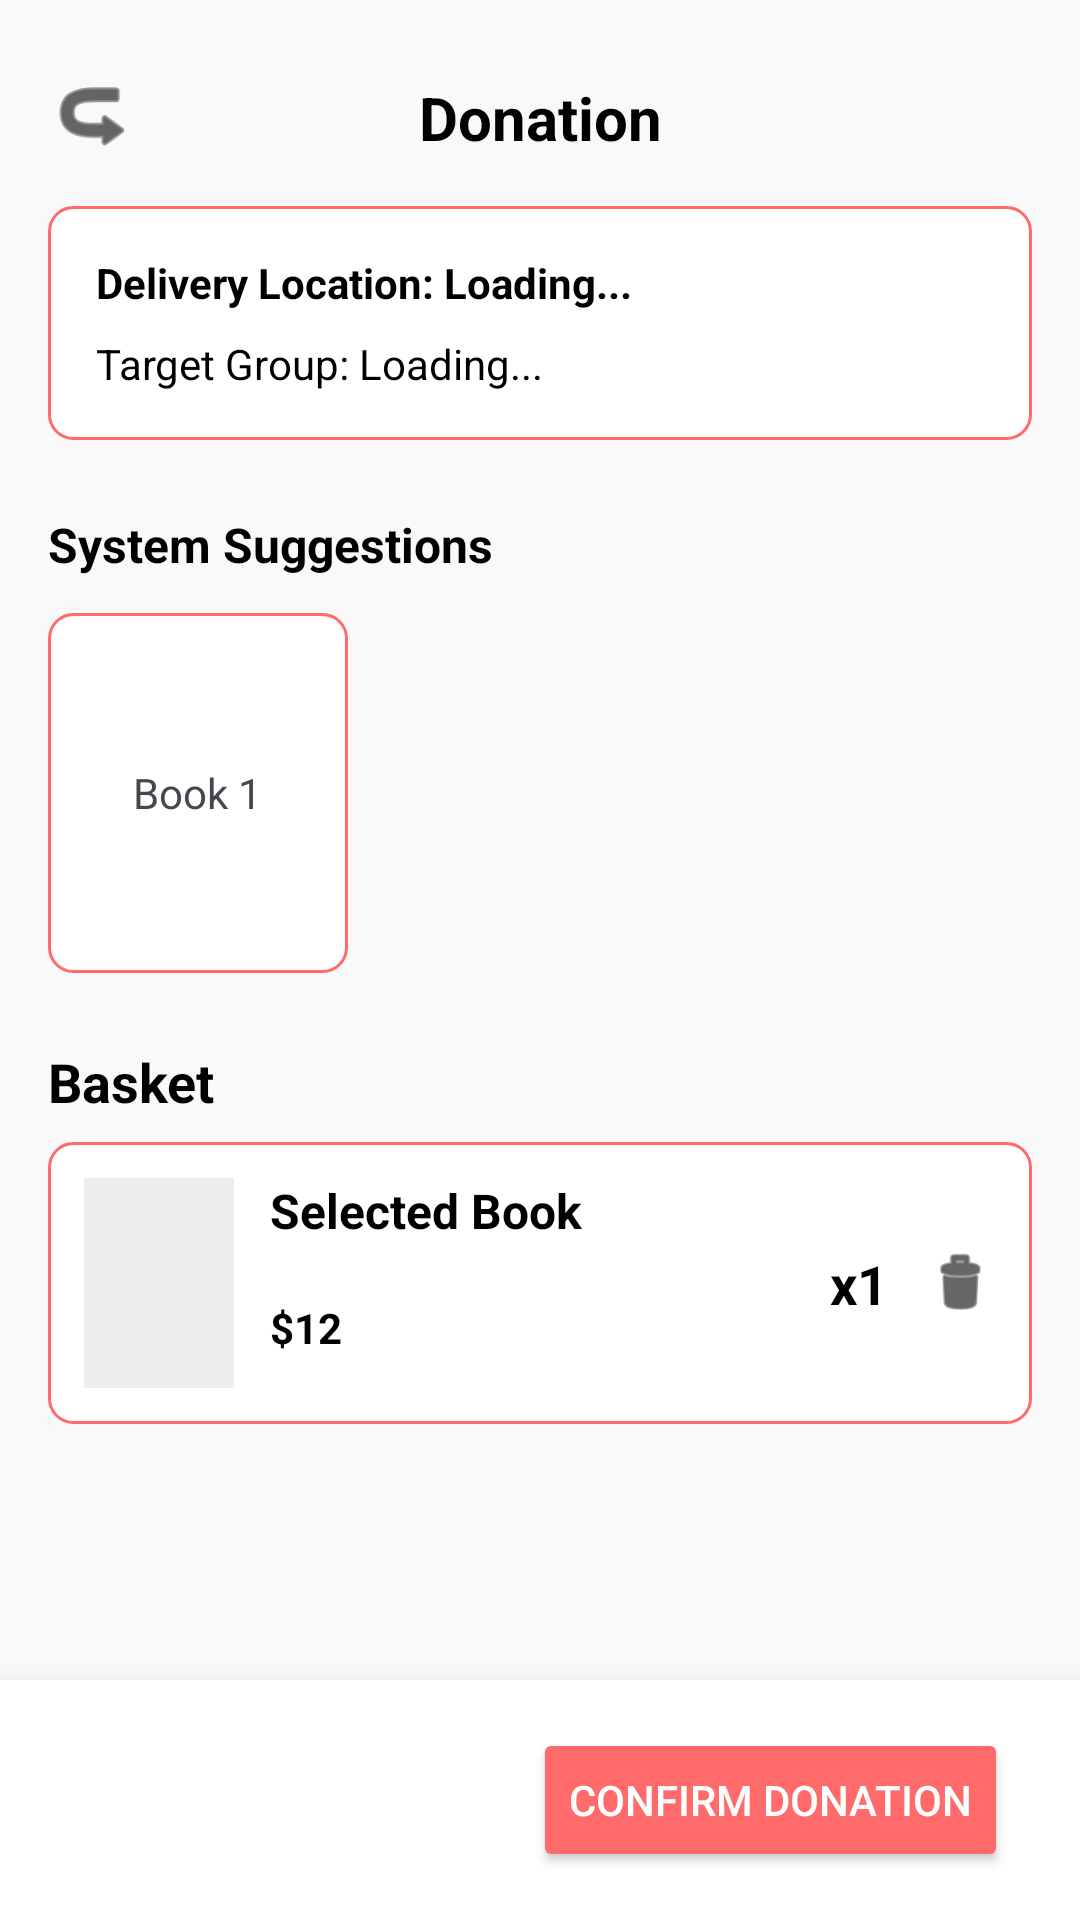

Screen size 1080w x 1920h. Icon name, then its center in pixels as (x=x, y=y):
delete: (x=960, y=1282)
